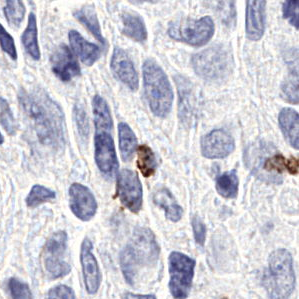Lymphocyte: (135, 143, 161, 177)
